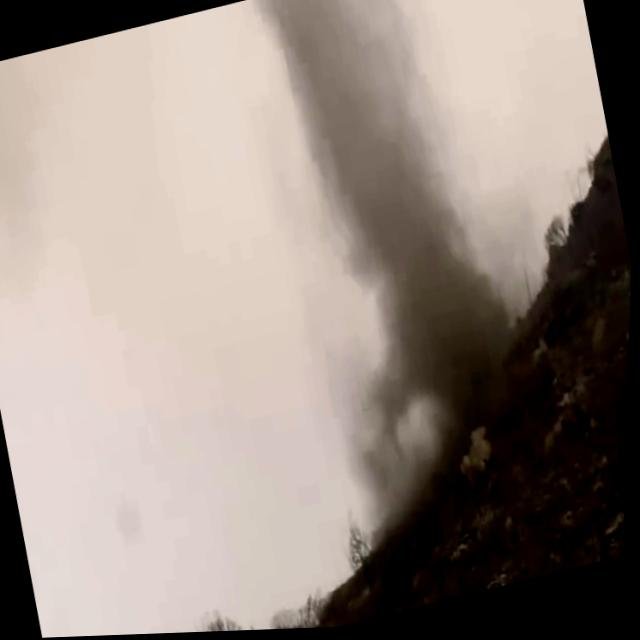smoke: (215, 0, 503, 399)
